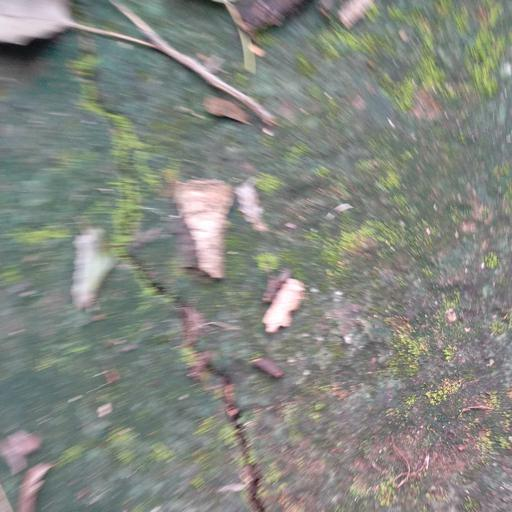algae: (7, 0, 512, 512)
